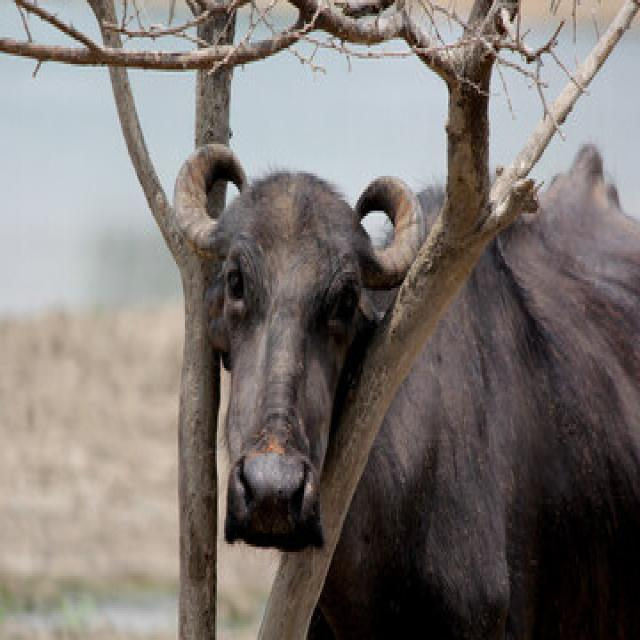Buffalo: (171, 136, 638, 637)
